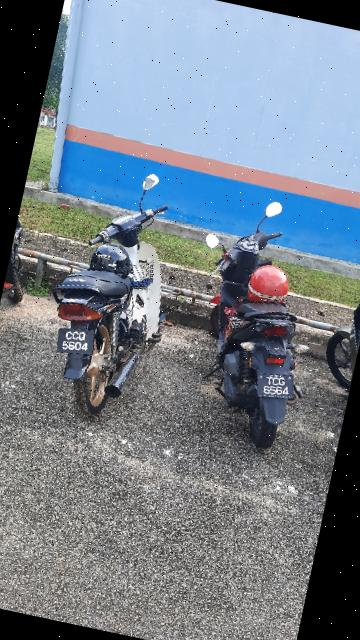License_Plate: (253, 369, 304, 406), (55, 324, 98, 361)
motorcycle: (163, 187, 345, 456), (30, 154, 200, 432)
